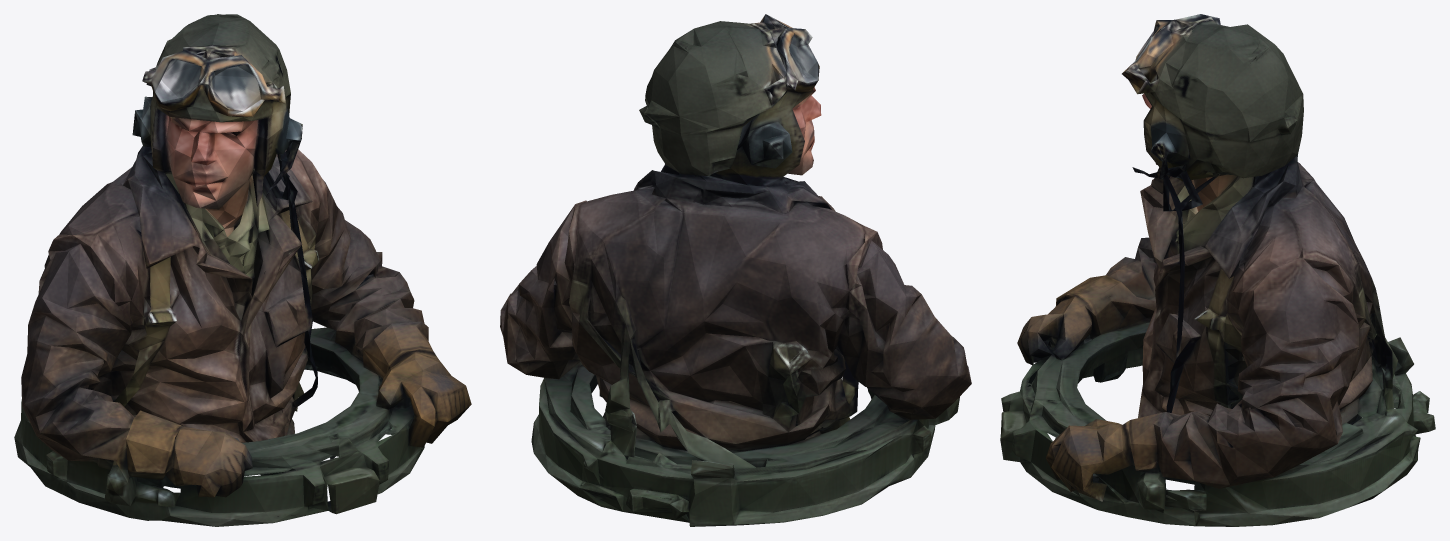
File: commander.glb
The picture shows the model from 3 angles, left to right: view 1: azimuth 30°, elevation 25°; view 2: azimuth 150°, elevation 25°; view 3: azimuth 270°, elevation 25°; orthographic projection.
Visible parts, largest first — view 1: geometry_0; view 2: geometry_0; view 3: geometry_0.
Boxes of the visible parts, x1,y1,x2,y2 form: geometry_0: (14, 14, 471, 526); geometry_0: (500, 14, 971, 526); geometry_0: (1000, 14, 1435, 526).
Bounding box in the file's own units: 1 × 0.9742 × 0.916.
Materials: 1 (1 with a texture image).
